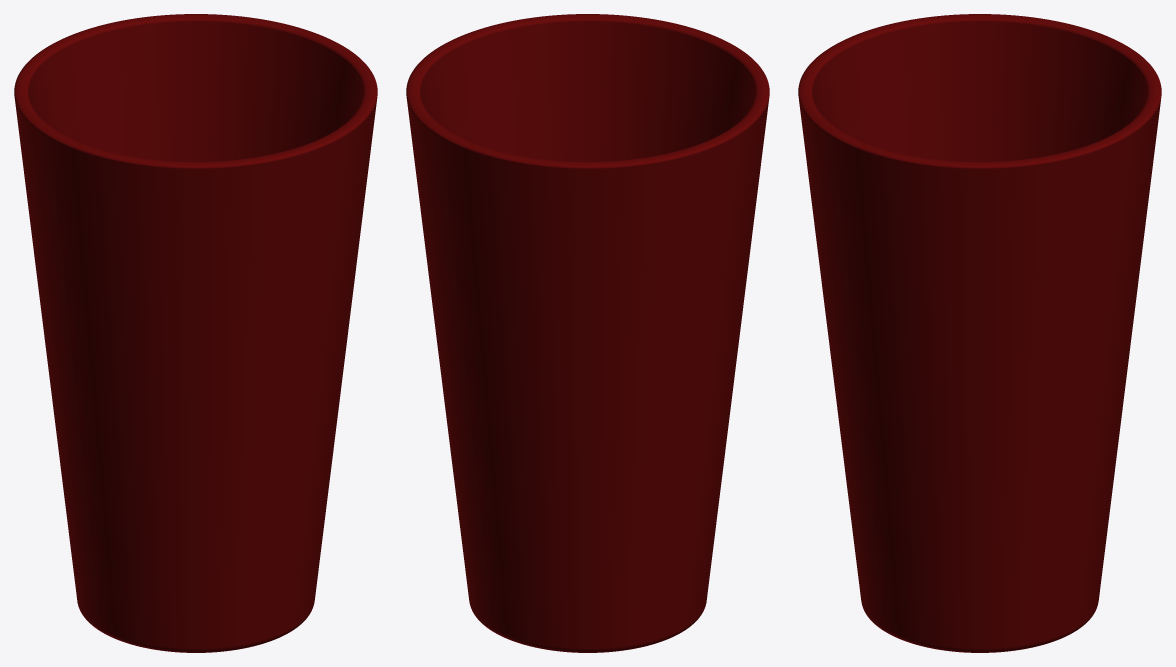
File: model17clear.glb
The picture shows the model from 3 angles, left to right: view 1: azimuth 30°, elevation 25°; view 2: azimuth 150°, elevation 25°; view 3: azimuth 270°, elevation 25°; orthographic projection.
Bounding box in the file's own units: 0.077 × 0.1208 × 0.077.
